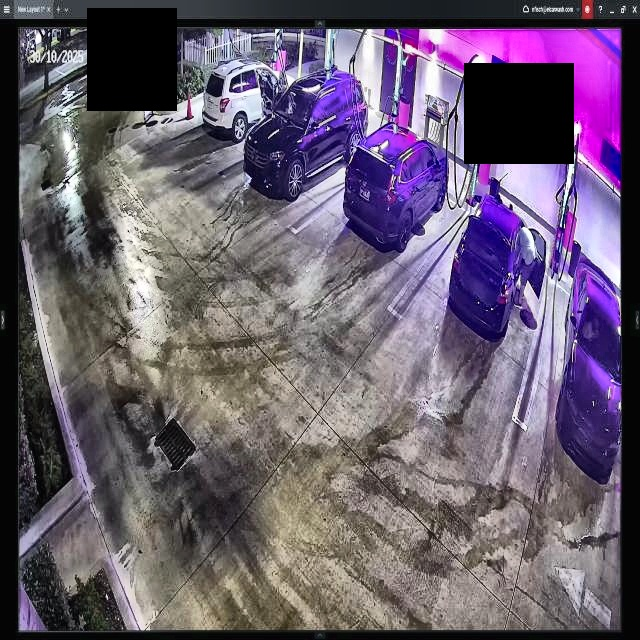Car: (446, 195, 546, 337), (244, 73, 368, 186), (342, 117, 449, 245)
